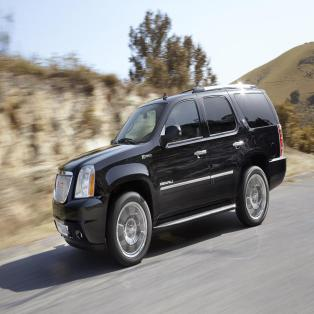Auto: (51, 82, 289, 264)
